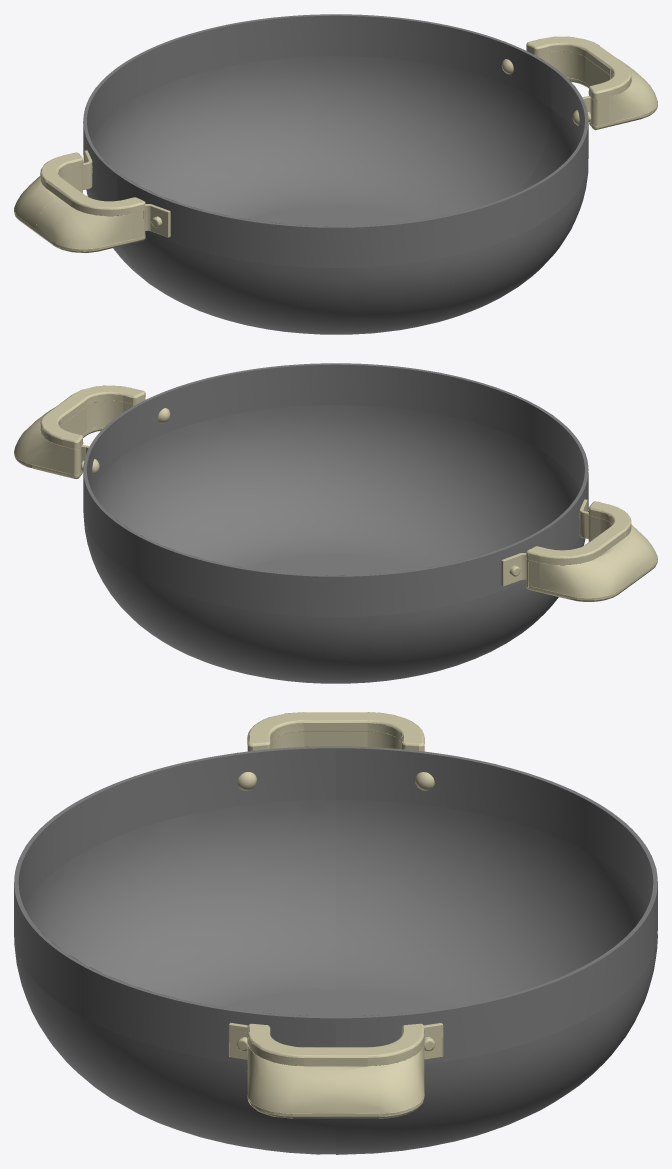
The model's file is pan.fbx.
3 views of the same model, one above another, from view 1: azimuth 30°, elevation 25°; view 2: azimuth 150°, elevation 25°; view 3: azimuth 270°, elevation 25° (orthographic). The views are drawn at different scales.
Visible parts, largest first — view 1: Obj_000019; view 2: Obj_000019; view 3: Obj_000019.
Boxes of the visible parts, x1,y1,x2,y2 form: Obj_000019: (14,14,657,334); Obj_000019: (14,363,657,683); Obj_000019: (14,712,657,1154).
Size of the model in its own units: 809 by 187 by 589.
